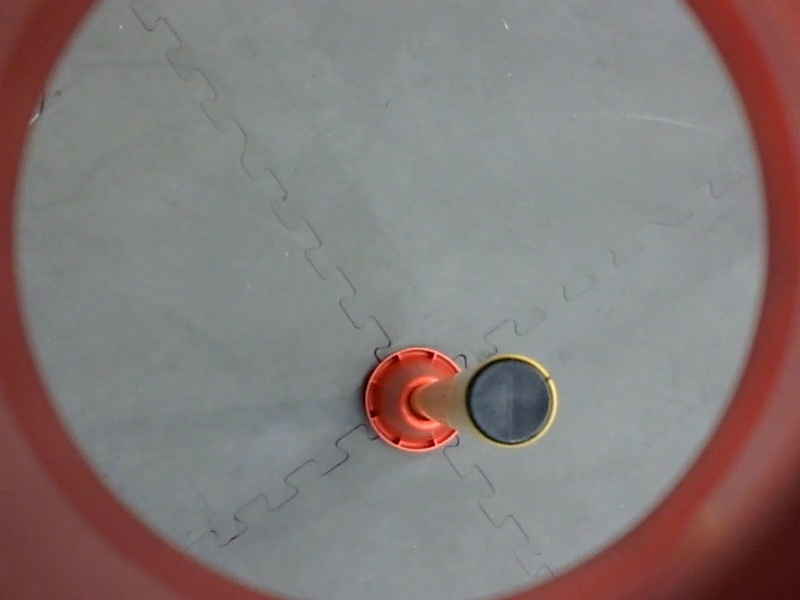tip: (460, 348, 562, 458)
